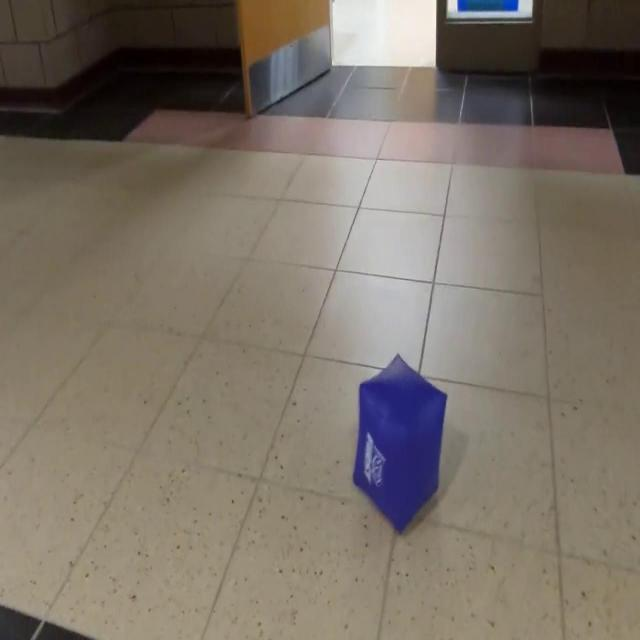frc_cube: (352, 351, 446, 534)
